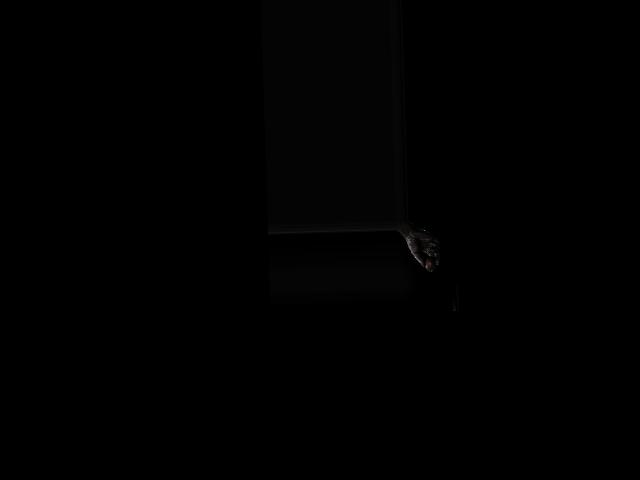egg: (424, 255, 436, 271)
